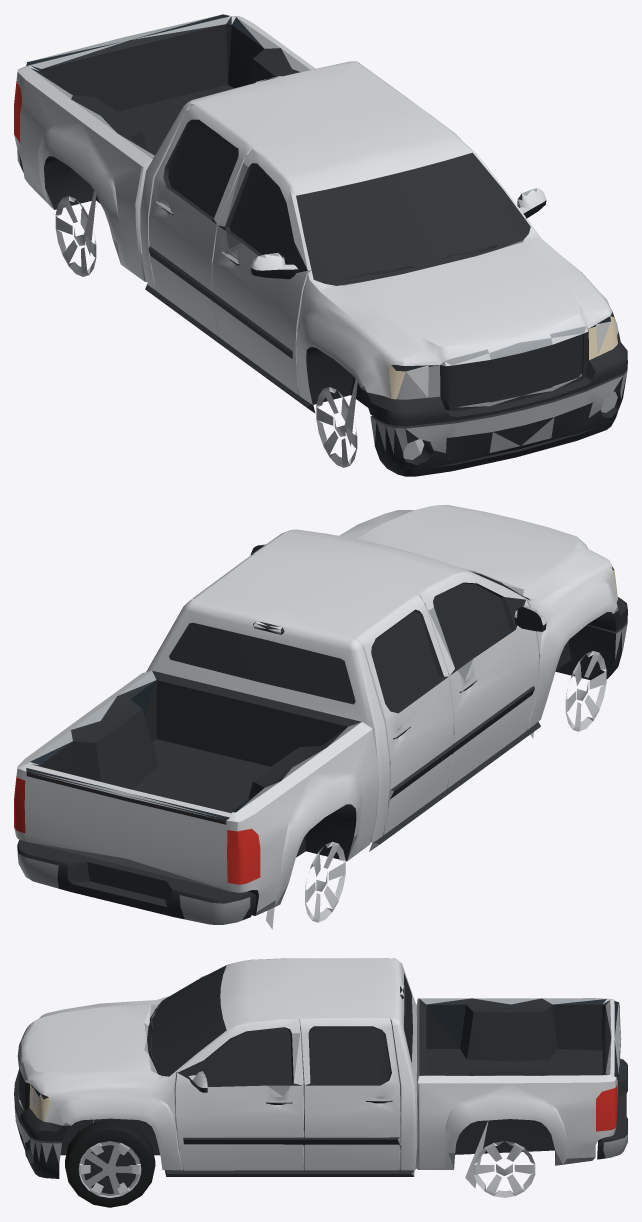
The model's file is pickup-crew.glb.
3 renders of one model, top to bottom at view 1: azimuth 30°, elevation 25°; view 2: azimuth 150°, elevation 25°; view 3: azimuth 270°, elevation 25°, orthographic. The views are drawn at different scales.
Parts seen in each view (by area): view 1: Car body, Car trim, Car wheel discs, Car headlamps, Car glazing; view 2: Car body, Car trim, Car wheel discs, Car tail lamps, Car glazing; view 3: Car body, Car trim, Car wheel discs, Wheel tyre, Car glazing, Wheel rim, Wheel well, Car tail lamps, Car headlamps.
Part boxes in pixels (x1,y1,x2,y2): Car body: (14,16,618,467); Car trim: (17,16,627,476); Car wheel discs: (17,15,626,459); Car headlamps: (389,316,617,399); Car glazing: (26,14,610,371); Car body: (14,505,617,929); Car trim: (17,545,627,920); Car wheel discs: (17,544,627,924); Car tail lamps: (14,776,260,884); Car glazing: (26,629,515,819); Car body: (19,958,617,1197); Car trim: (14,965,627,1178); Car wheel discs: (14,975,627,1176); Wheel tyre: (65,1119,155,1207); Car glazing: (31,999,618,1096); Wheel rim: (78,1141,141,1198); Wheel well: (84,1141,135,1193); Car tail lamps: (596,1085,617,1131); Car headlamps: (29,1084,50,1121).
Size of the model in its own units: 2.43 by 1.87 by 5.84.
